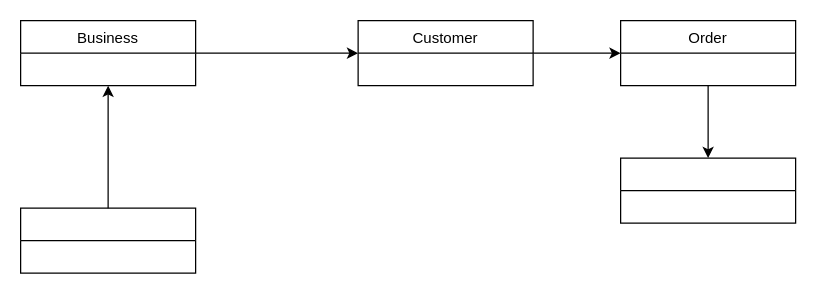
Image size: 816x294. Some labels were removed from this diagram. Each missing label, with the box of its shape:
OrderItem: (619, 157, 796, 223)
User: (19, 207, 196, 273)
